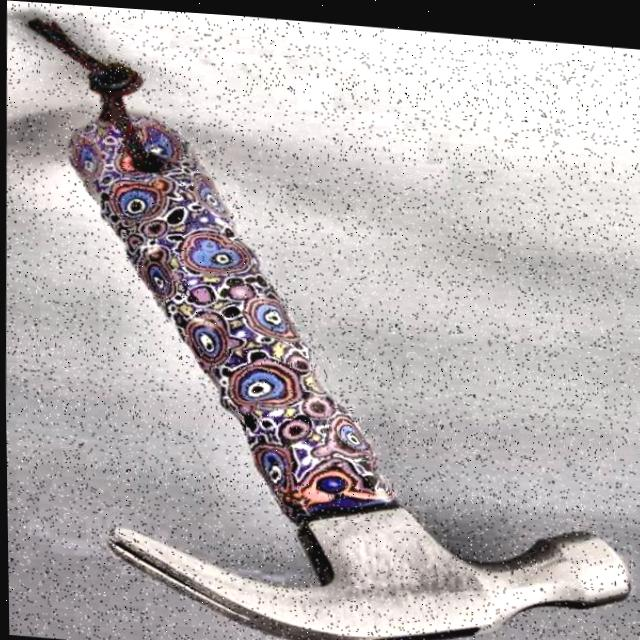hammer: (48, 100, 640, 640)
